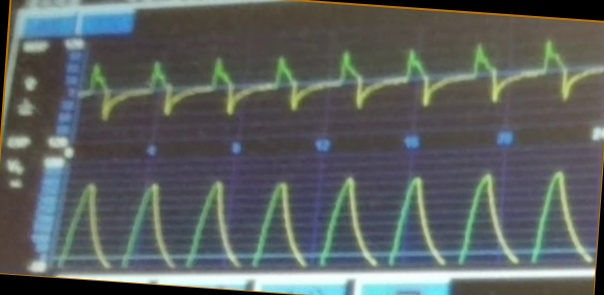Accumulation Flow: (89, 35, 594, 126)
Volume: (73, 160, 589, 269)
